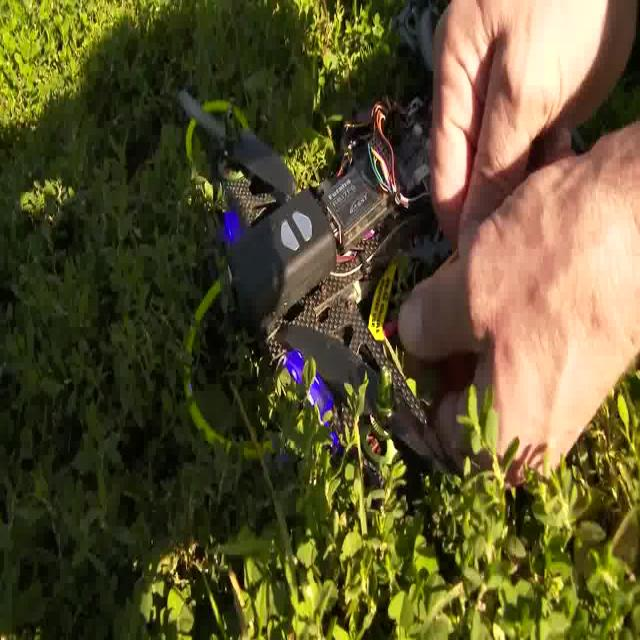drones: (172, 73, 444, 486)
